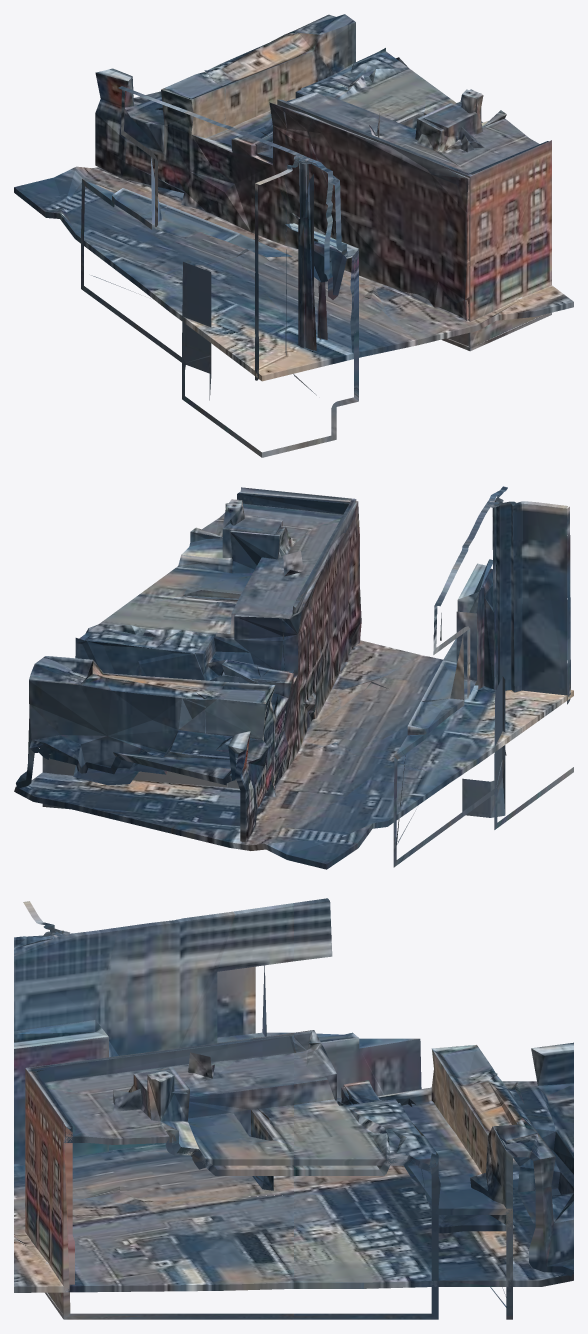
The model's file is chunk_0_4.glb.
The picture shows the model from 3 angles, top to bottom: view 1: azimuth 30°, elevation 25°; view 2: azimuth 150°, elevation 25°; view 3: azimuth 270°, elevation 25°; orthographic projection. The views are drawn at different scales.
Parts seen in each view (by area): view 1: hero-chunk; view 2: hero-chunk; view 3: hero-chunk.
Boxes of the visible parts, x1,y1,x2,y2 form: hero-chunk: [14, 14, 573, 457]; hero-chunk: [14, 486, 573, 869]; hero-chunk: [14, 898, 573, 1319].
Size of the model in its own units: 56.66 by 45.75 by 76.32.
2 materials, 2 textured.
